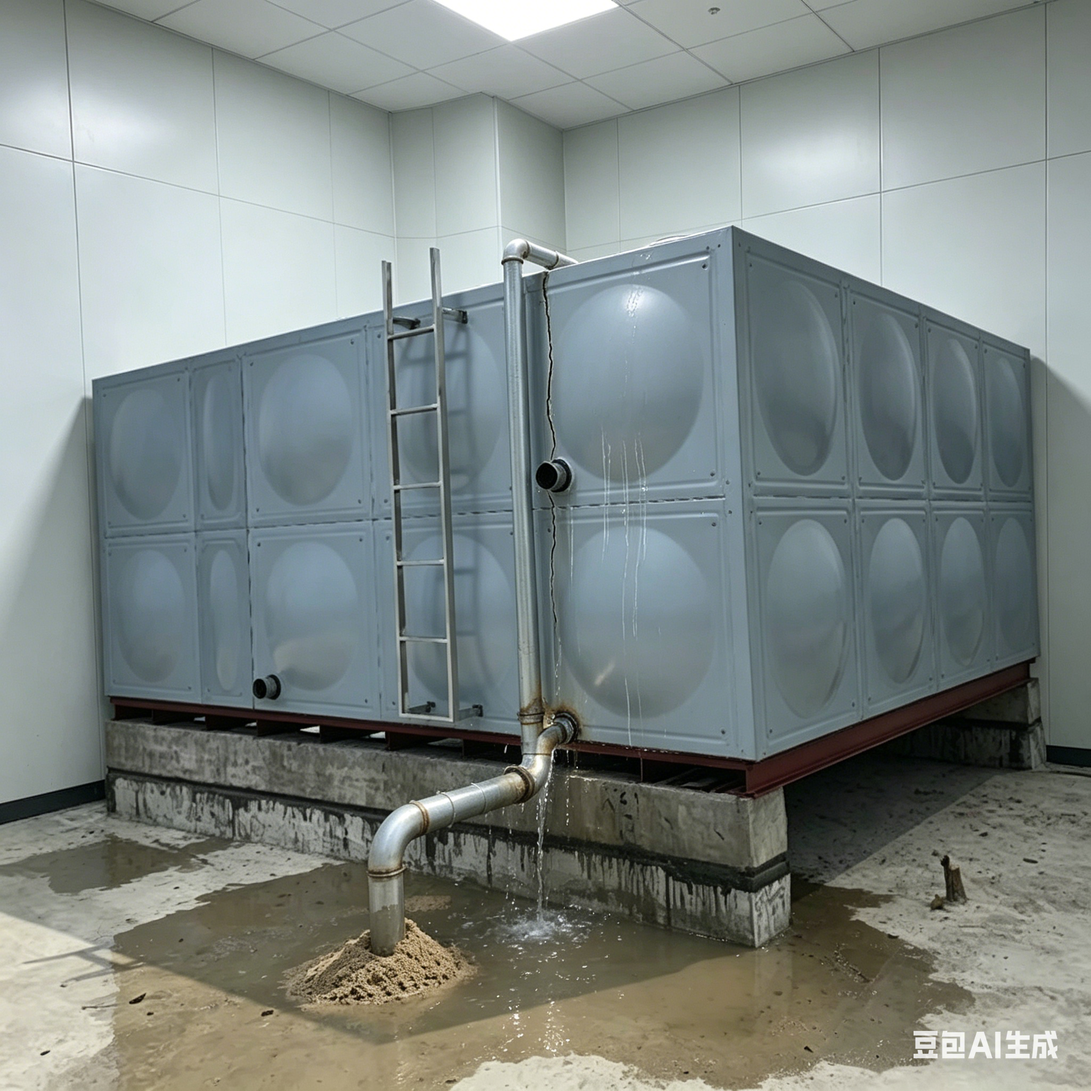Leakage: (132, 919, 515, 1091), (602, 911, 955, 1091), (517, 606, 596, 1051), (201, 868, 517, 917), (42, 832, 187, 884)
